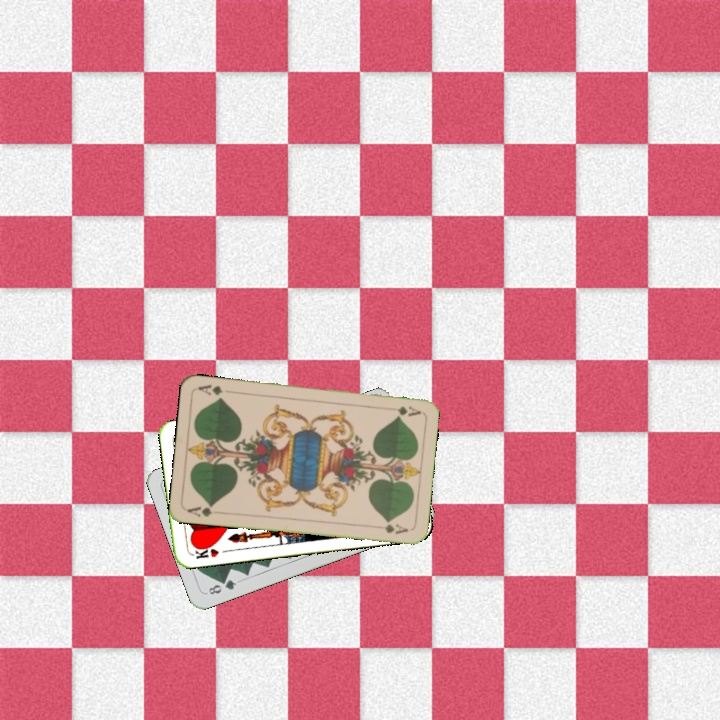G8: (202, 575, 239, 597)
GA: (183, 501, 224, 520), (382, 402, 423, 418)
HK: (188, 541, 221, 561)
